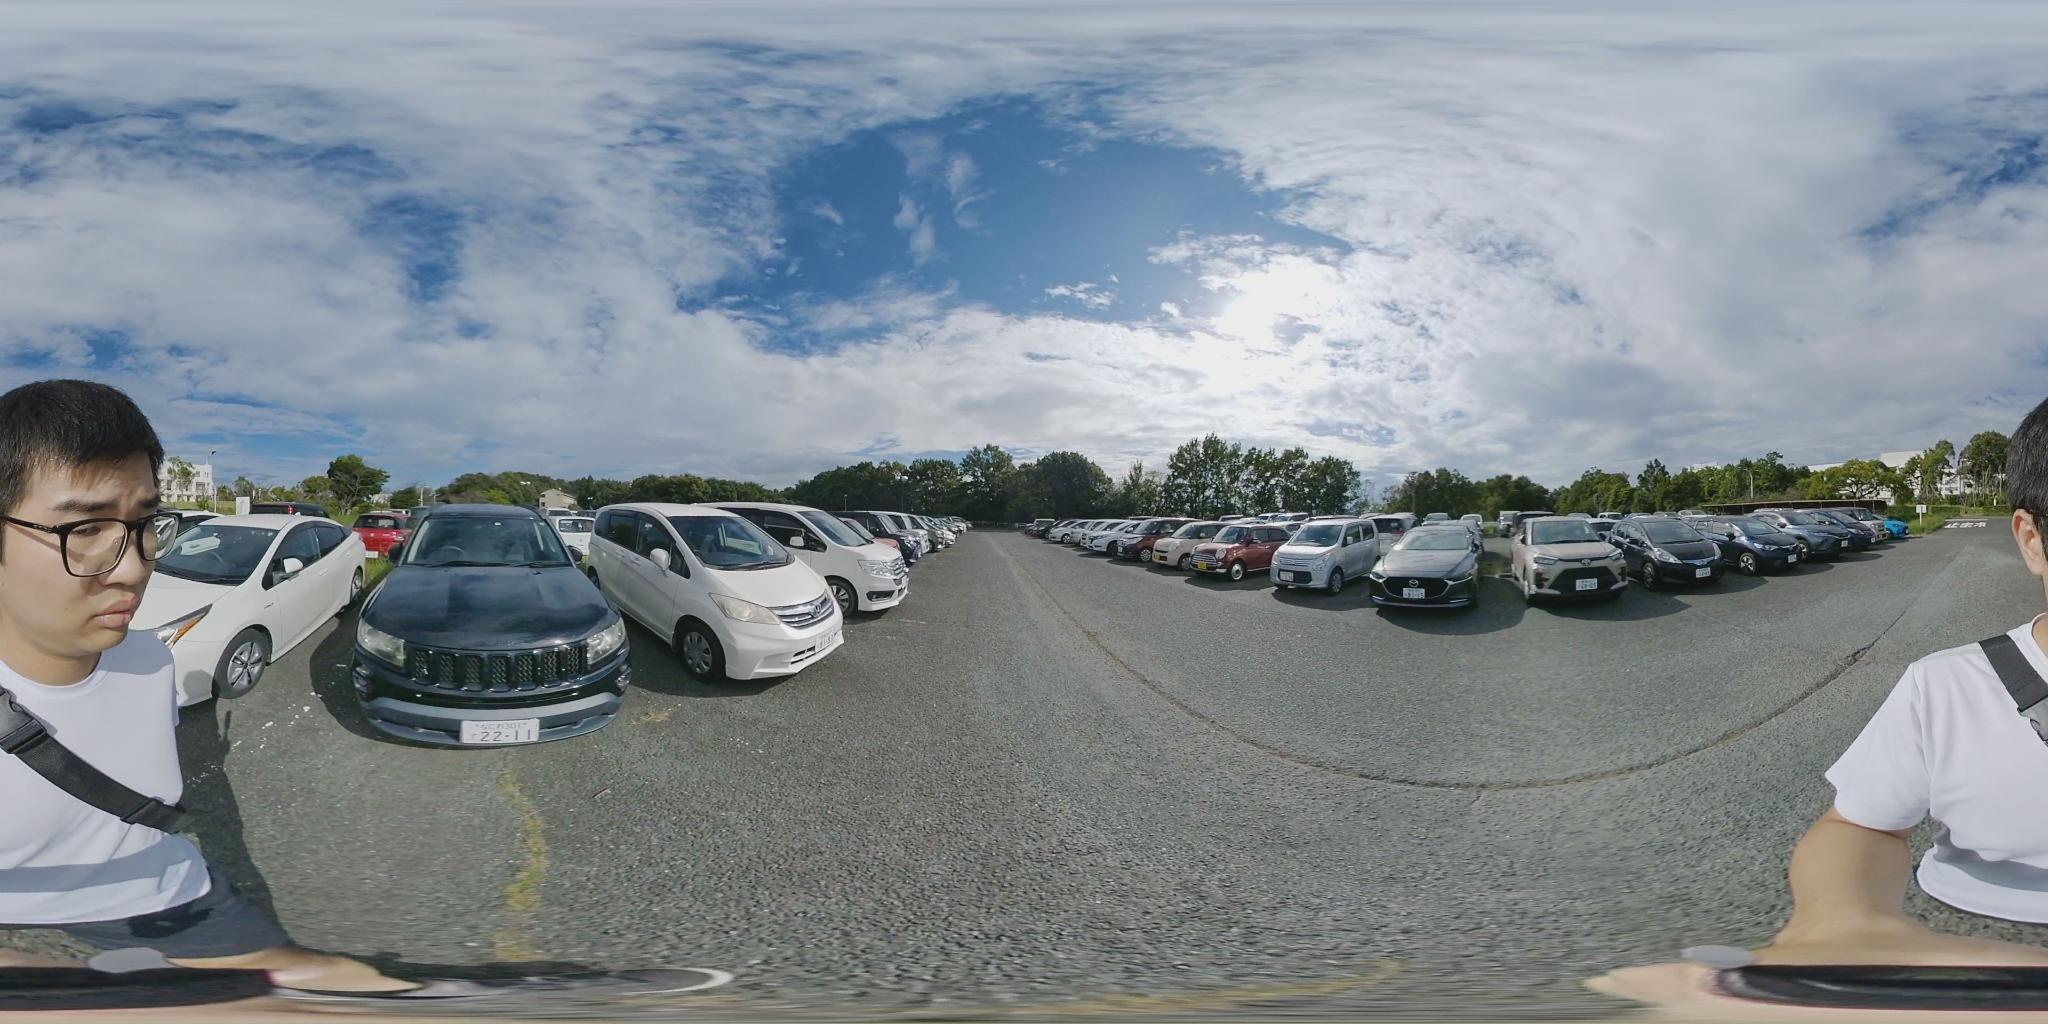car: (323, 503, 630, 747), (575, 505, 856, 687), (127, 509, 379, 704), (711, 504, 910, 616), (1276, 519, 1407, 593), (1512, 520, 1630, 602), (1374, 526, 1480, 610), (1616, 520, 1720, 586), (1178, 521, 1300, 576), (1755, 509, 1889, 559), (1711, 513, 1810, 572), (859, 509, 940, 559), (1155, 520, 1236, 568), (1098, 520, 1182, 559), (1128, 522, 1203, 562), (1072, 520, 1148, 555), (1017, 521, 1061, 543), (1946, 521, 1988, 533)
